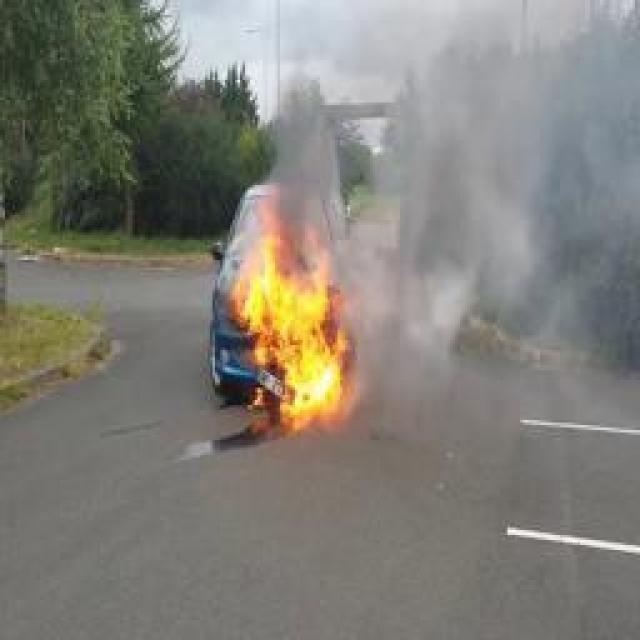Fire: (234, 198, 344, 434)
